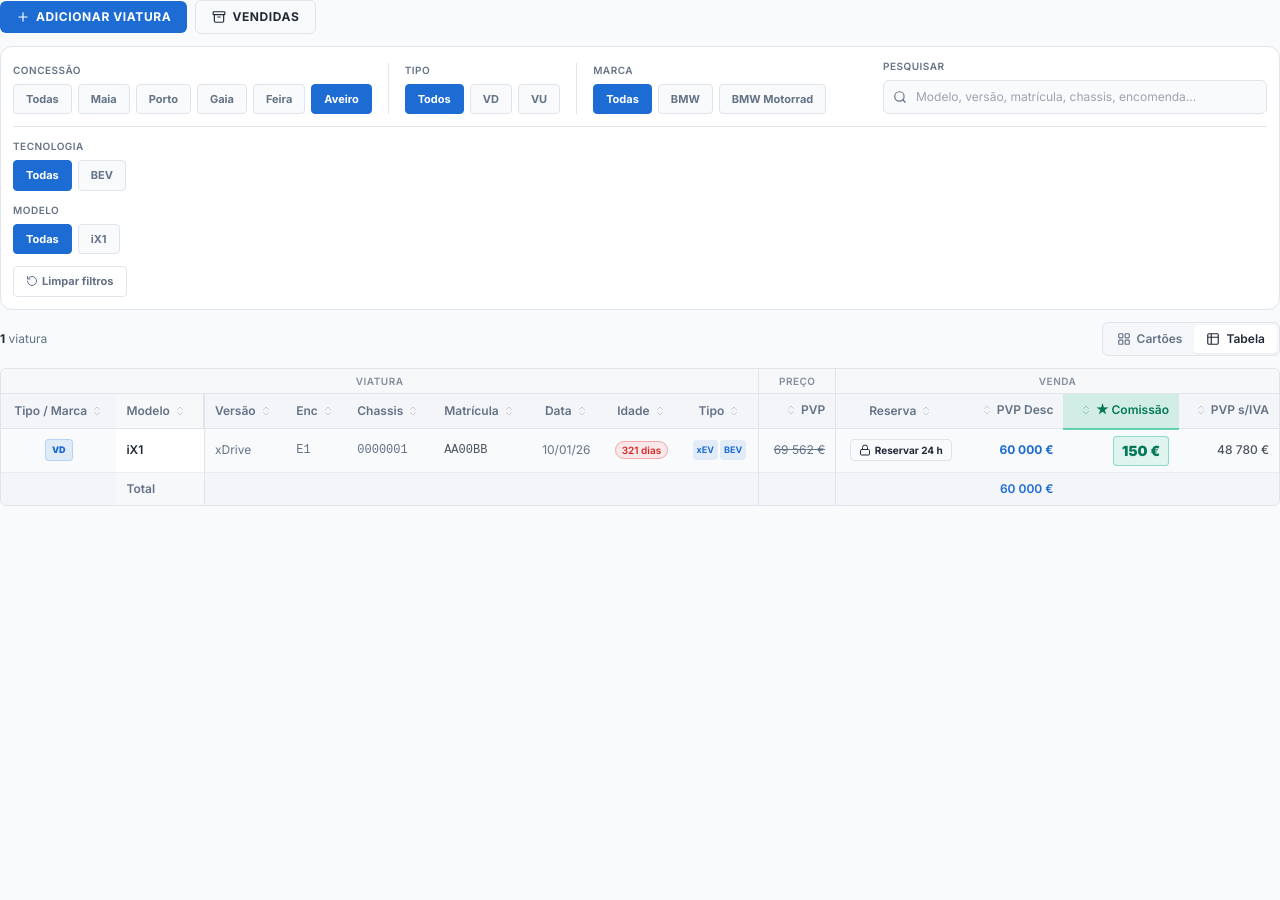
Test: tab Demos › o administrador abre a janela de preço ao clicar na linha, com a identificação e os economics
The image size is (1280, 900).
Click the text "iX1" at [135, 450], box [126,442,143,458]
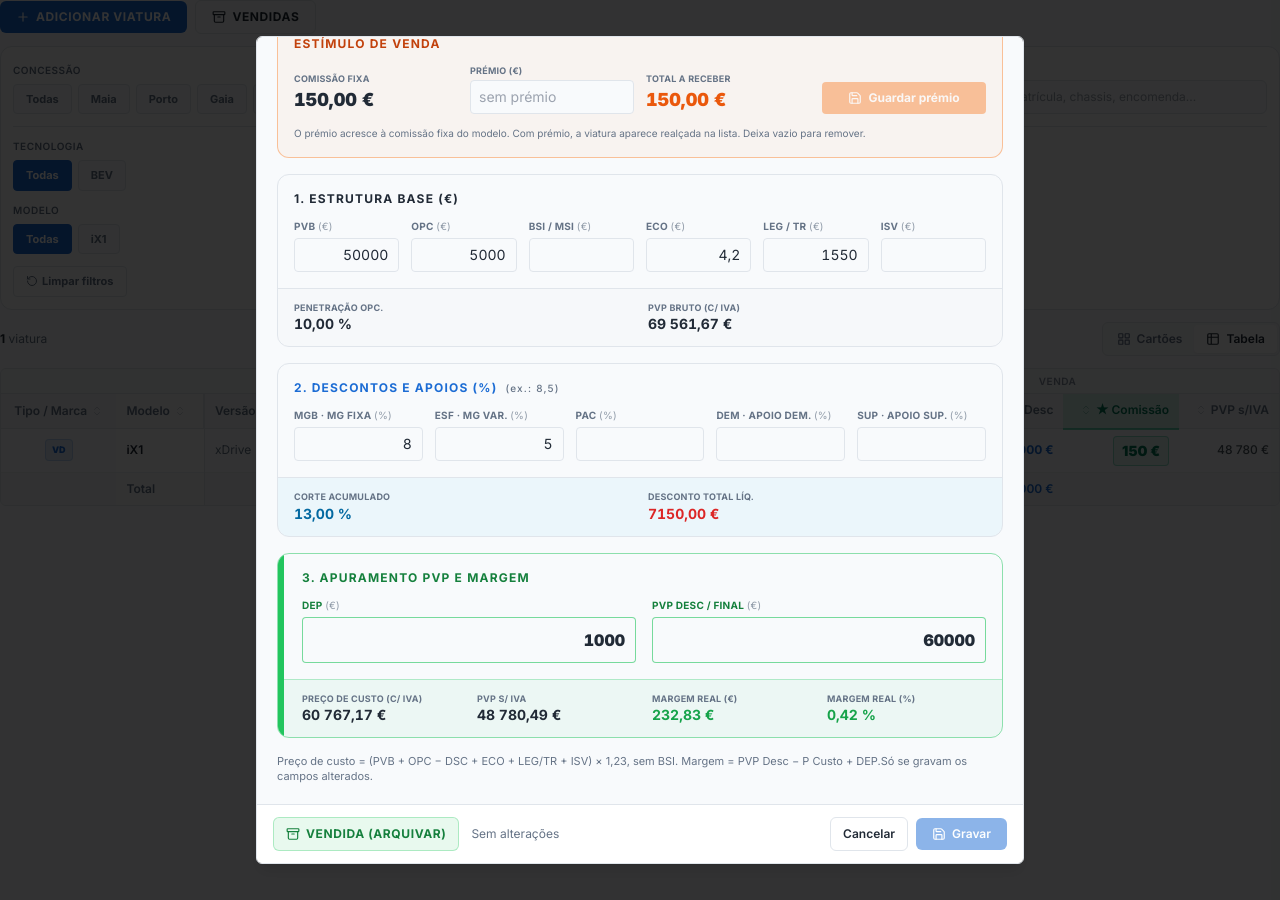
Expected: the heading "1. Estrutura base (€)" is shown, [294,190,459,206]
Expected: the heading "2. Descontos e apoios (%) (ex.: 8,5)" is shown, [294,380,560,395]
Expected: the heading "3. Apuramento PVP e margem" is shown, [302,570,530,584]
